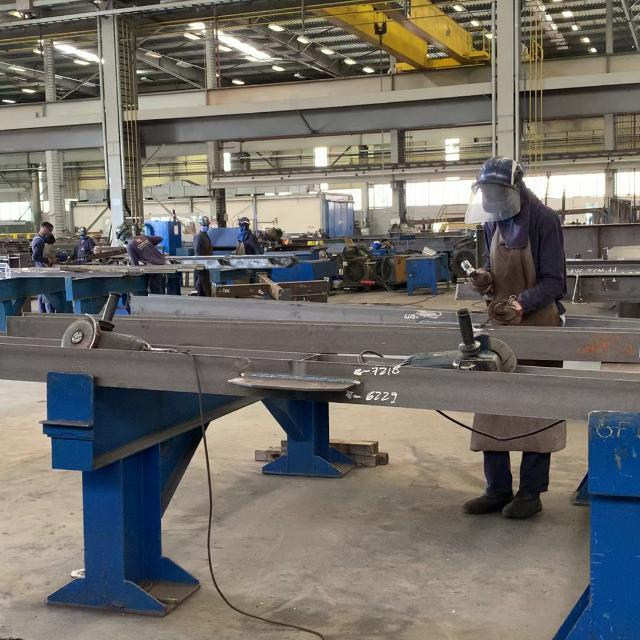eye-glass: (463, 183, 521, 224)
face-shield: (487, 298, 525, 326), (465, 268, 492, 292)
glove: (470, 155, 527, 184)
mask: (462, 157, 571, 522)
safety-shoe: (501, 490, 545, 522), (462, 487, 516, 512)
